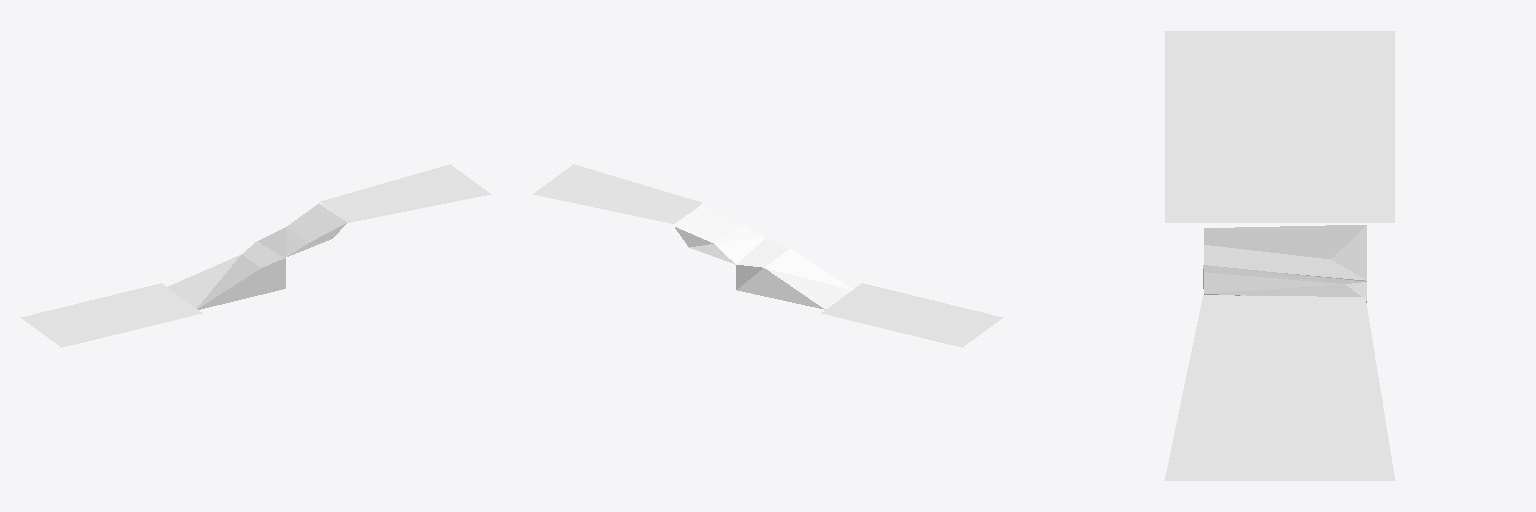
The robot description file, URDF, robot "mount":
<robot name="mount">
  <link name="base_link">
    <visual>
      <origin xyz="0 0 0" rpy="0 0 0" />
      <geometry>
        <mesh filename="package://hpp-rbprm-corba/meshes/mountain.stl"/>
      </geometry>
      <material name="white">
        <color rgba="1 1 1 1"/>
      </material>
    </visual>
    <collision>
      <origin xyz="0 0 0" rpy="0 0 0" />
      <geometry>
        <mesh filename="package://hpp-rbprm-corba/meshes/mountain.stl"/>
      </geometry>
    </collision>
  </link>
</robot>

--- Facts derived from the render (not from the file) ---
3 views of the same robot in one strip: view 1: azimuth 30°, elevation 25°; view 2: azimuth 150°, elevation 25°; view 3: azimuth 270°, elevation 25° (orthographic).
Robot: mount — 1 links, 0 joints (none); root link base_link; default pose: all joints at 0.
Links seen in each view (by area): view 1: base_link; view 2: base_link; view 3: base_link.
Link boxes in pixels (x1,y1,x2,y2): base_link: (21,164,490,347); base_link: (533,164,1002,347); base_link: (1165,31,1394,480).
Bounding box of the posed robot: 8.55 × 1.42 × 0.9747 m (x, y, z).
Meshes: 1 distinct files referenced, 1 mesh visuals loaded (1 binary STL).
